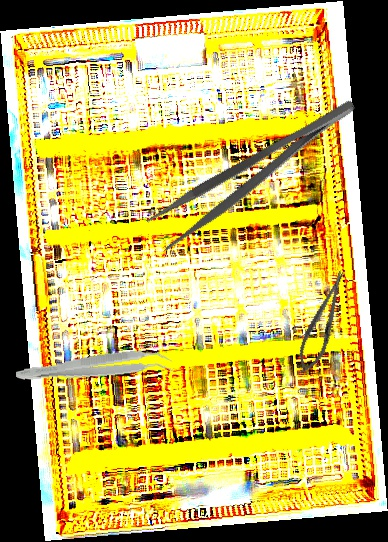Dressing Forceps: (143, 94, 370, 253)
Needle Holder: (291, 265, 355, 379)
Tissue Forceps: (14, 345, 174, 392)
